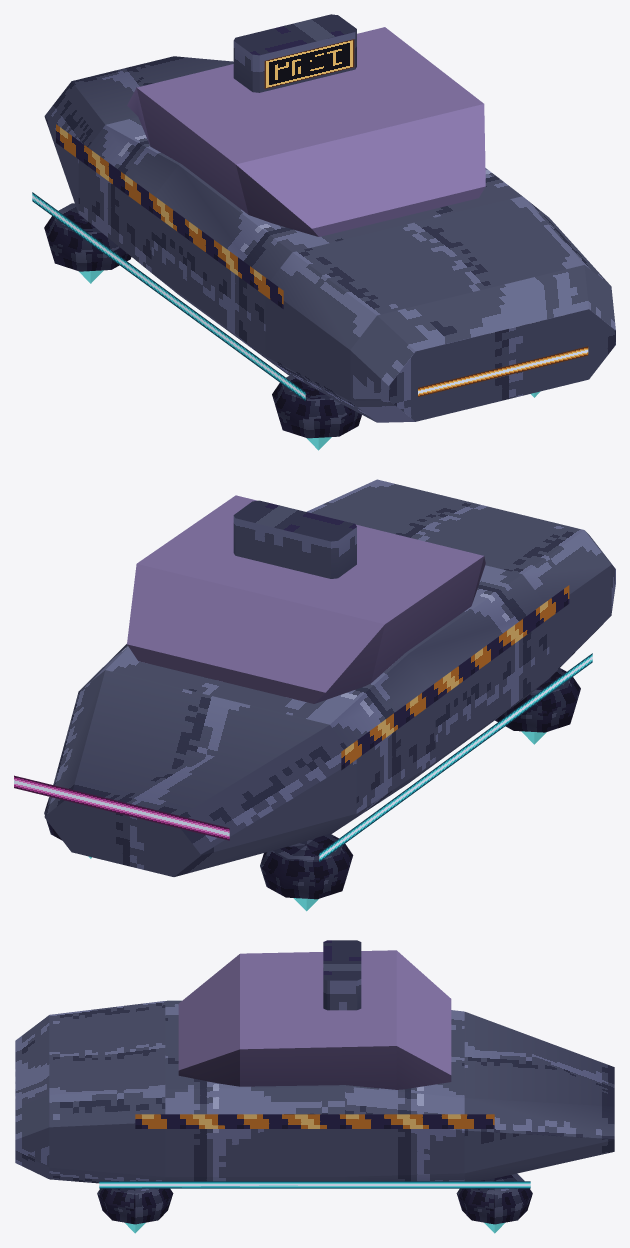
The model's file is cytech.hovercar__taxi.glb.
3 renders of one model, top to bottom at view 1: azimuth 30°, elevation 25°; view 2: azimuth 150°, elevation 25°; view 3: azimuth 270°, elevation 25°, orthographic. The views are drawn at different scales.
Parts seen in each view (by area): view 1: kit_hull, kit_canopy, kit_card_lights, kit_pods; view 2: kit_hull, kit_canopy, kit_card_lights, kit_pods; view 3: kit_hull, kit_canopy, kit_card_lights, kit_pods.
Boxes of the visible parts, left/top/right/bottom form: kit_hull: left=44, top=14, right=615, bottom=422; kit_canopy: left=127, top=27, right=485, bottom=236; kit_card_lights: left=32, top=39, right=588, bottom=400; kit_pods: left=44, top=203, right=540, bottom=450; kit_hull: left=44, top=479, right=615, bottom=876; kit_canopy: left=127, top=495, right=485, bottom=703; kit_card_lights: left=14, top=585, right=592, bottom=861; kit_pods: left=44, top=668, right=580, bottom=911; kit_hull: left=15, top=940, right=614, bottom=1183; kit_canopy: left=178, top=950, right=451, bottom=1089; kit_card_lights: left=99, top=1114, right=530, bottom=1188; kit_pods: left=97, top=1173, right=532, bottom=1233.
Size of the model in its own units: 2 by 1.88 by 4.42.
Materials: 7 (6 with a texture image).
